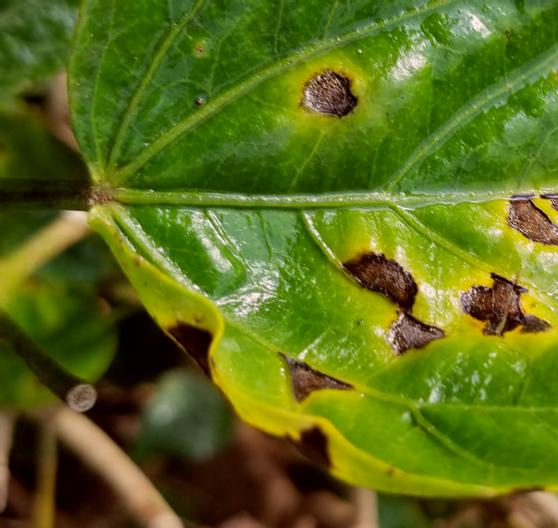Tomato leaf bacterial spot: (69, 0, 558, 505)
